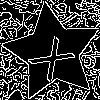X: (28, 28, 84, 83)
